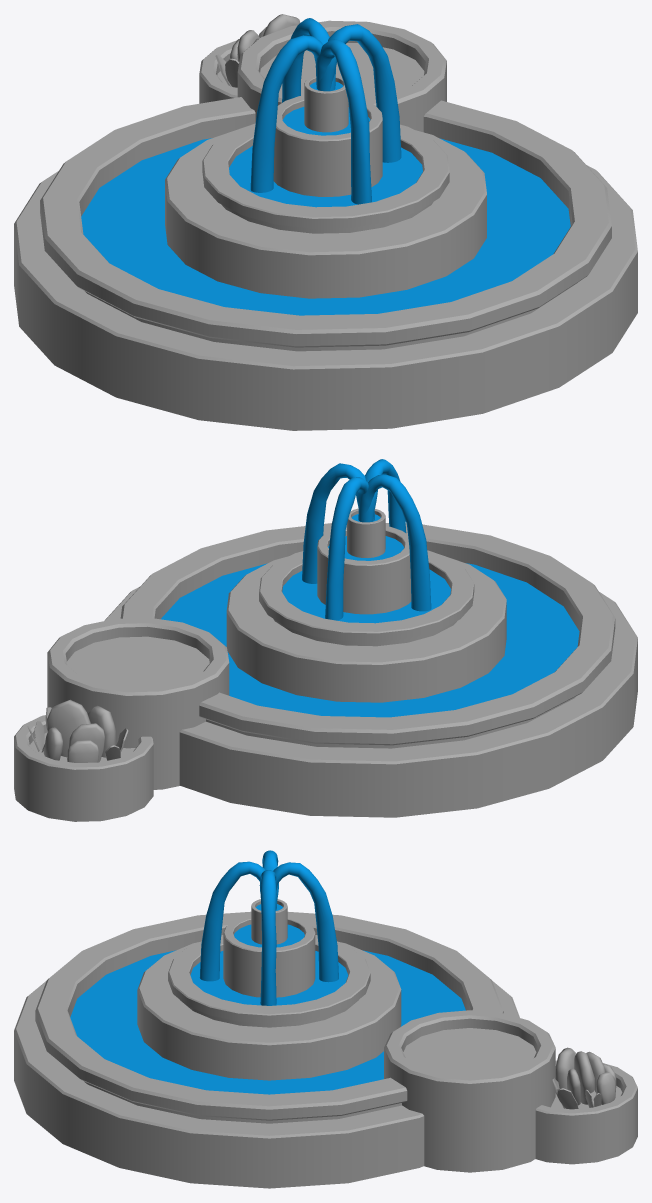
File: Fountain_Plants.fbx
3 renders of one model, top to bottom at view 1: azimuth 30°, elevation 25°; view 2: azimuth 150°, elevation 25°; view 3: azimuth 270°, elevation 25°, orthographic. The views are drawn at different scales.
Parts seen in each view (by area): view 1: polySurface9, polySurface2, polySurface3, polySurface4, polySurface5; view 2: polySurface9, polySurface3, polySurface5, polySurface4, polySurface2; view 3: polySurface9, polySurface5, polySurface2, polySurface4.
Part boxes in pixels (x1=…): polySurface9: x1=14, y1=14, x2=637, y2=430; polySurface2: x1=315, y1=39, x2=371, y2=204; polySurface3: x1=250, y1=35, x2=327, y2=192; polySurface4: x1=318, y1=24, x2=401, y2=162; polySurface5: x1=282, y1=18, x2=335, y2=102; polySurface9: x1=14, y1=508, x2=637, y2=821; polySurface3: x1=358, y1=474, x2=431, y2=611; polySurface5: x1=325, y1=477, x2=371, y2=620; polySurface4: x1=302, y1=463, x2=374, y2=583; polySurface2: x1=362, y1=459, x2=406, y2=532; polySurface9: x1=14, y1=899, x2=637, y2=1188; polySurface5: x1=273, y1=862, x2=338, y2=982; polySurface2: x1=199, y1=861, x2=265, y2=981; polySurface4: x1=259, y1=870, x2=276, y2=1005.
Size of the model in its own units: 21.92 by 10.35 by 26.77.
